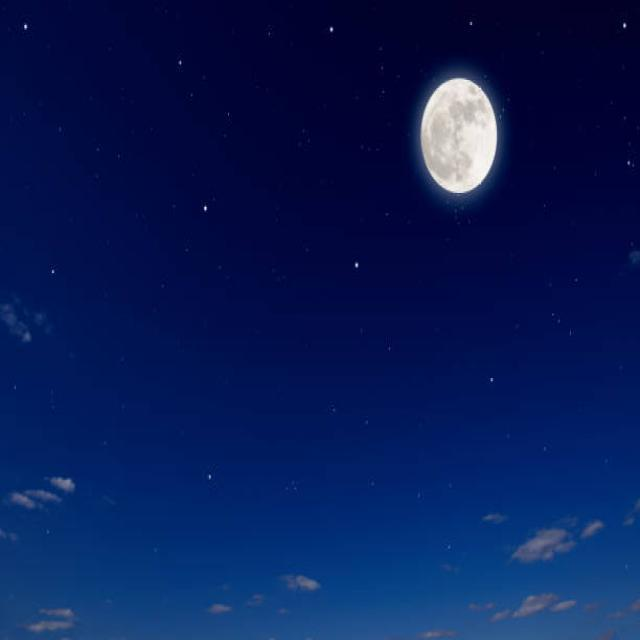moon: (421, 77, 498, 196)
